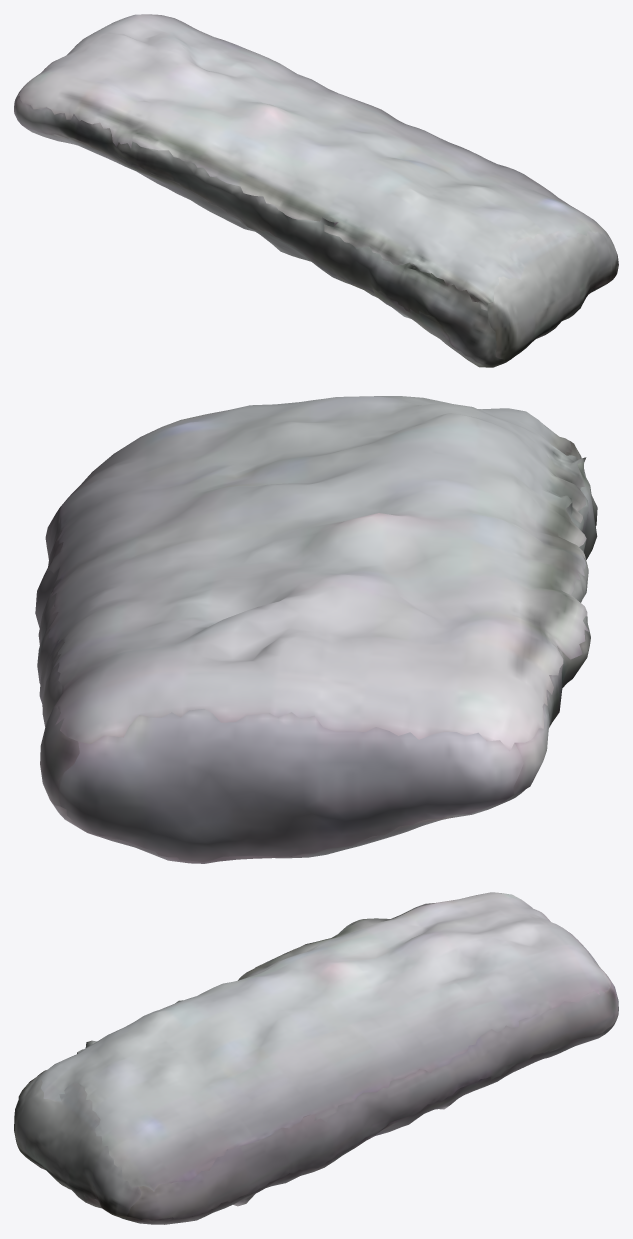
File: 16_blanket.glb
3 renders of one model, top to bottom at view 1: azimuth 30°, elevation 25°; view 2: azimuth 150°, elevation 25°; view 3: azimuth 270°, elevation 25°, orthographic. The views are drawn at different scales.
Visible parts, largest first — view 1: 16_blanket; view 2: 16_blanket; view 3: 16_blanket.
Boxes of the visible parts, <box> form: 16_blanket: <box>14,14,618,367</box>; 16_blanket: <box>35,396,597,863</box>; 16_blanket: <box>14,892,618,1224</box>.
Bounding box in the file's own units: 1.08 × 0.4602 × 1.39.
Materials: 1 (1 with a texture image).
